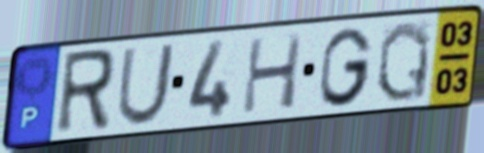4: (185, 36, 236, 121)
G: (317, 24, 376, 109)
H: (239, 31, 306, 117)
Q: (373, 18, 433, 105)
R: (52, 45, 117, 138)
U: (113, 41, 178, 128)
